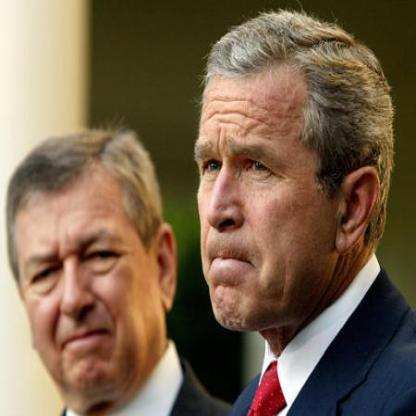face: (176, 18, 350, 345), (18, 140, 157, 396)
